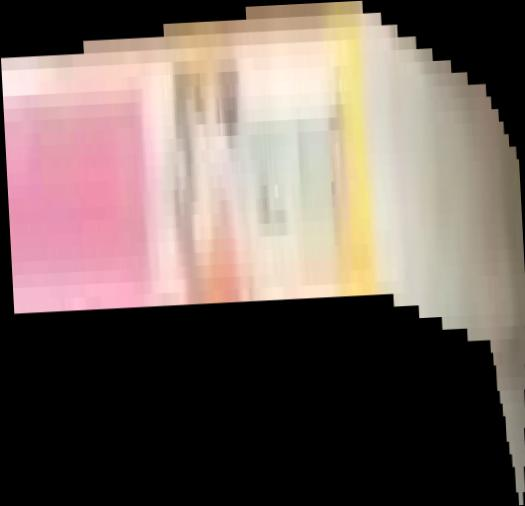flat: (1, 1, 525, 506)
